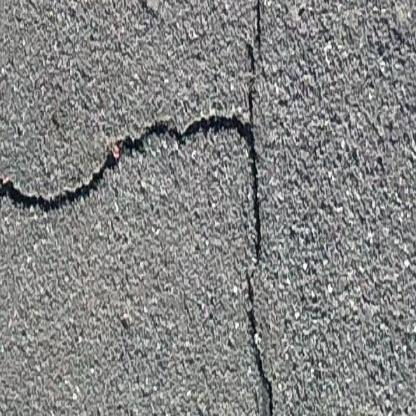Cracks: (0, 0, 279, 416)
